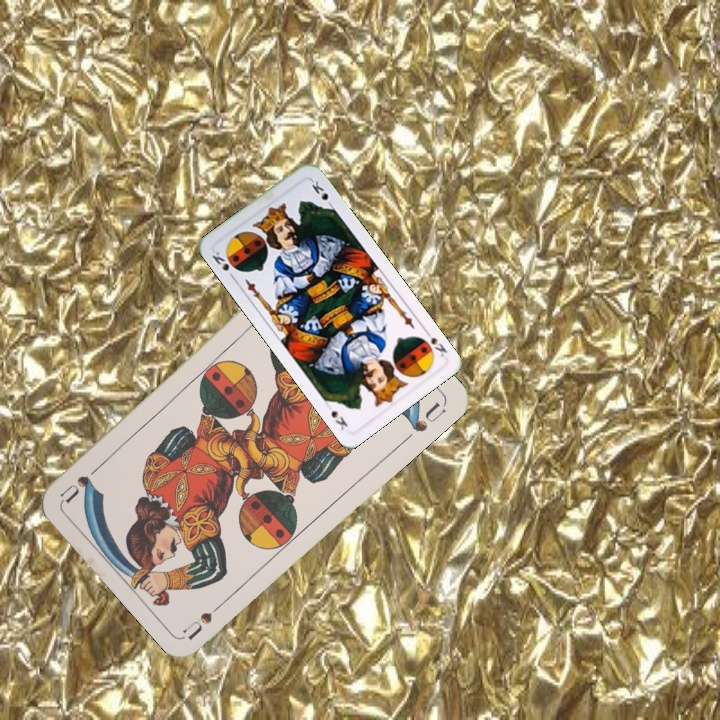SK: (208, 247, 242, 282), (420, 325, 450, 359)
SU: (181, 594, 231, 641)
